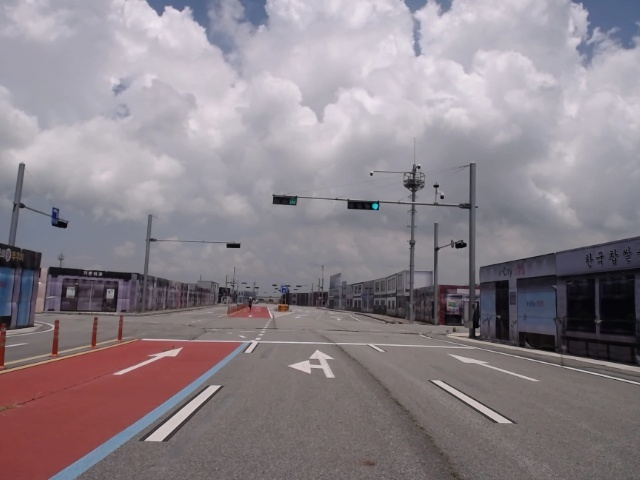straight_green_4: (346, 201, 379, 210)
